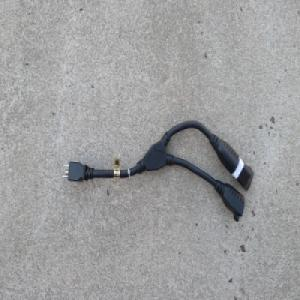Wire: (61, 119, 254, 223)
